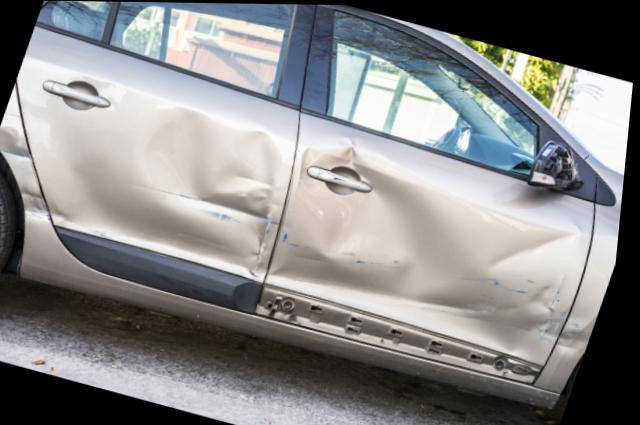dent: (279, 137, 585, 361), (67, 105, 289, 284), (0, 126, 52, 220), (564, 329, 597, 354)
